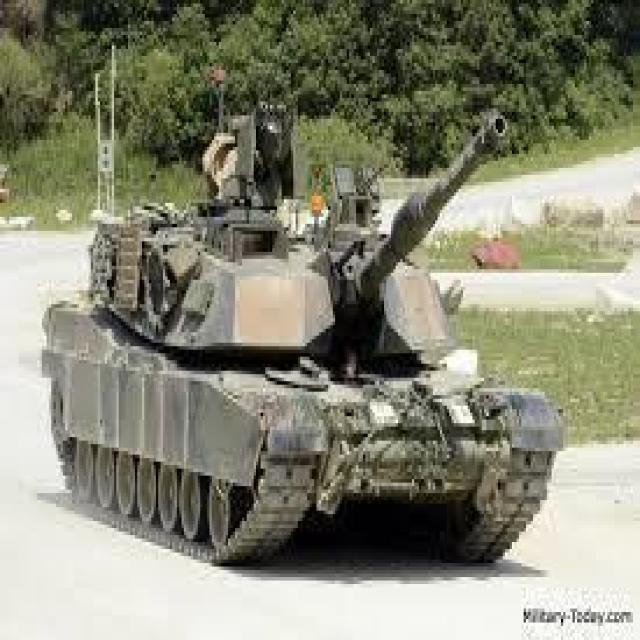MIL_MBT: (48, 124, 560, 561)
